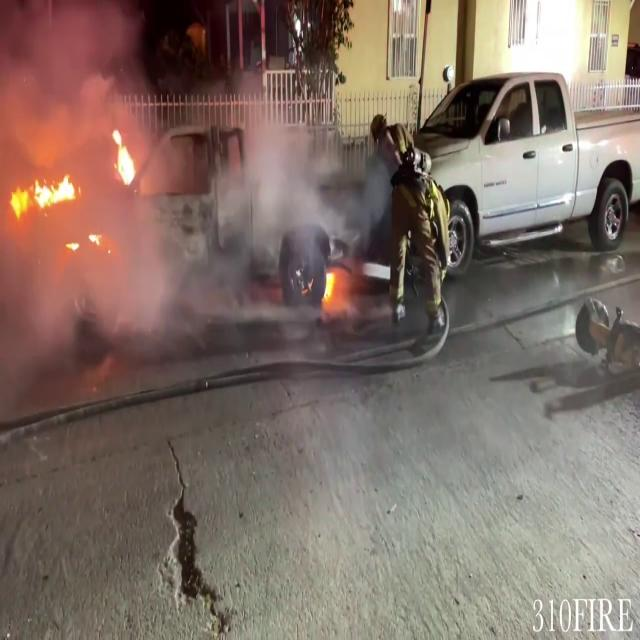Fire: (10, 167, 78, 228), (110, 123, 140, 191), (319, 261, 346, 312)
Smoke: (0, 0, 162, 364), (170, 80, 351, 337)
